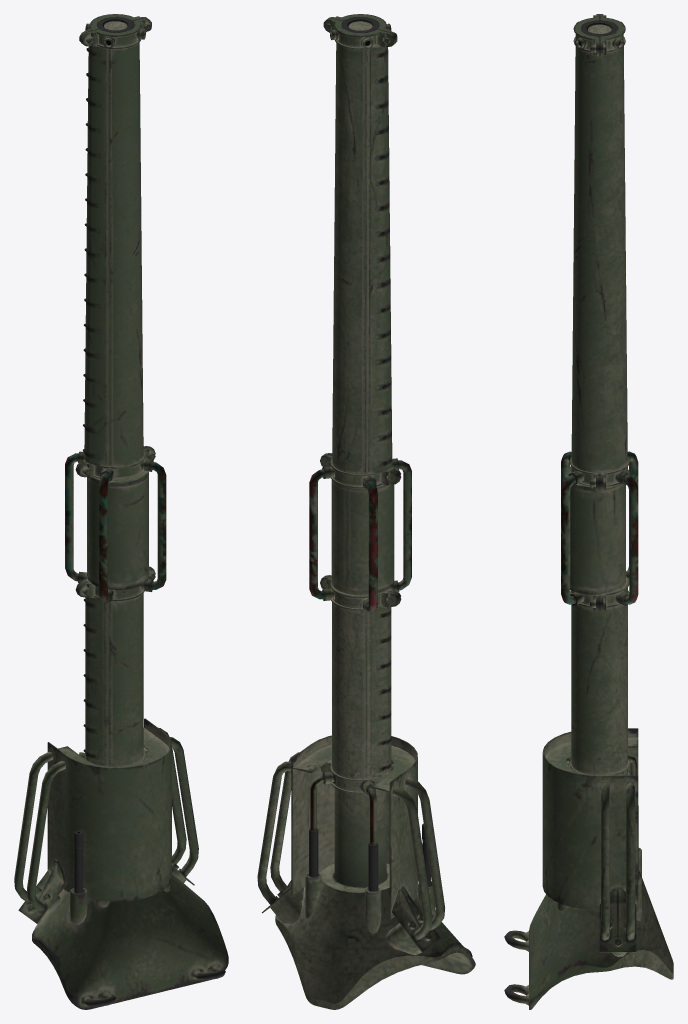
The model's file is Gun_05.glb.
3 views of the same model, side by side, from view 1: azimuth 30°, elevation 25°; view 2: azimuth 150°, elevation 25°; view 3: azimuth 270°, elevation 25° (orthographic).
Visible parts, largest first — view 1: set_0_group_0; view 2: set_0_group_0; view 3: set_0_group_0.
Boxes of the visible parts, left/top/right/bottom form: set_0_group_0: left=14, top=14, right=228, bottom=1009; set_0_group_0: left=257, top=14, right=475, bottom=1009; set_0_group_0: left=504, top=14, right=673, bottom=1009.
Size of the model in its own units: 0.8734 by 4.6 by 0.7438.
Materials: 1 (1 with a texture image).
